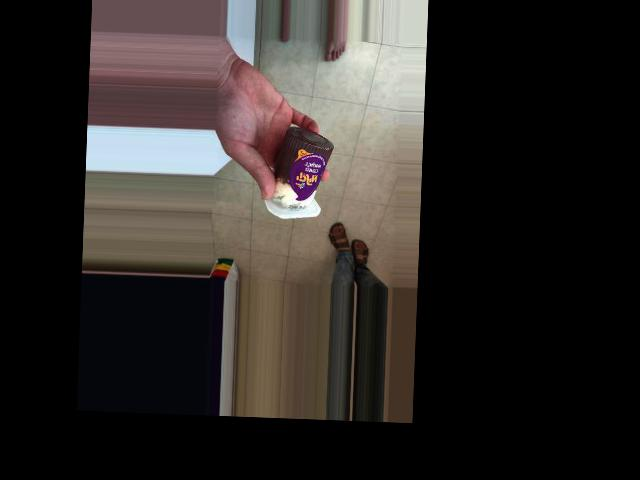milky: (265, 133, 324, 212)
